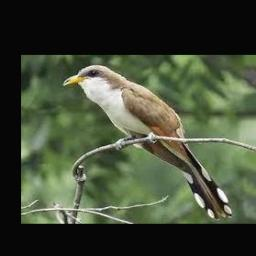Cuckoo: (64, 65, 233, 220)
